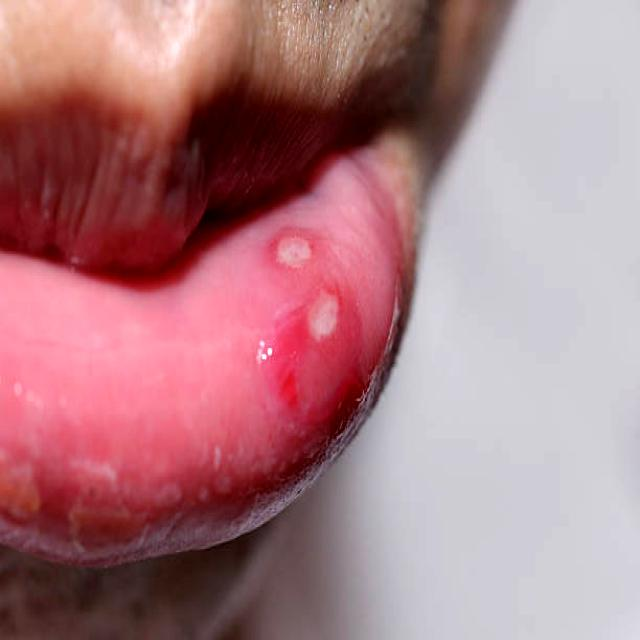ulcer: (308, 292, 336, 339), (277, 237, 311, 268)
